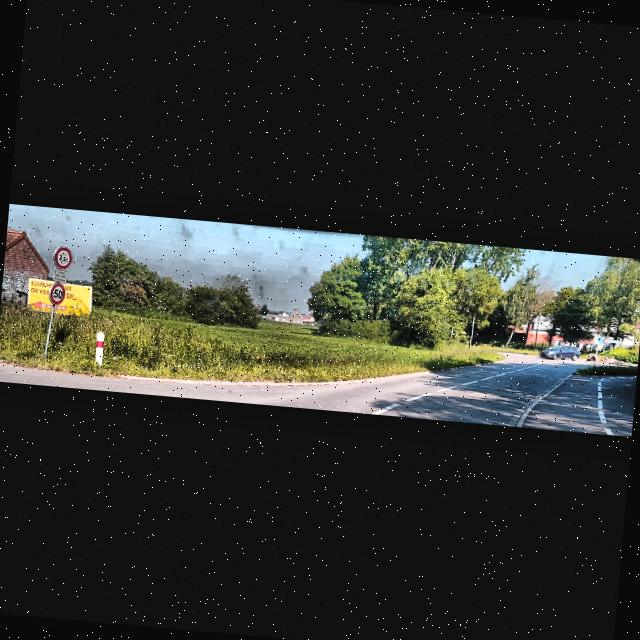speed_50: (50, 283, 66, 305)
